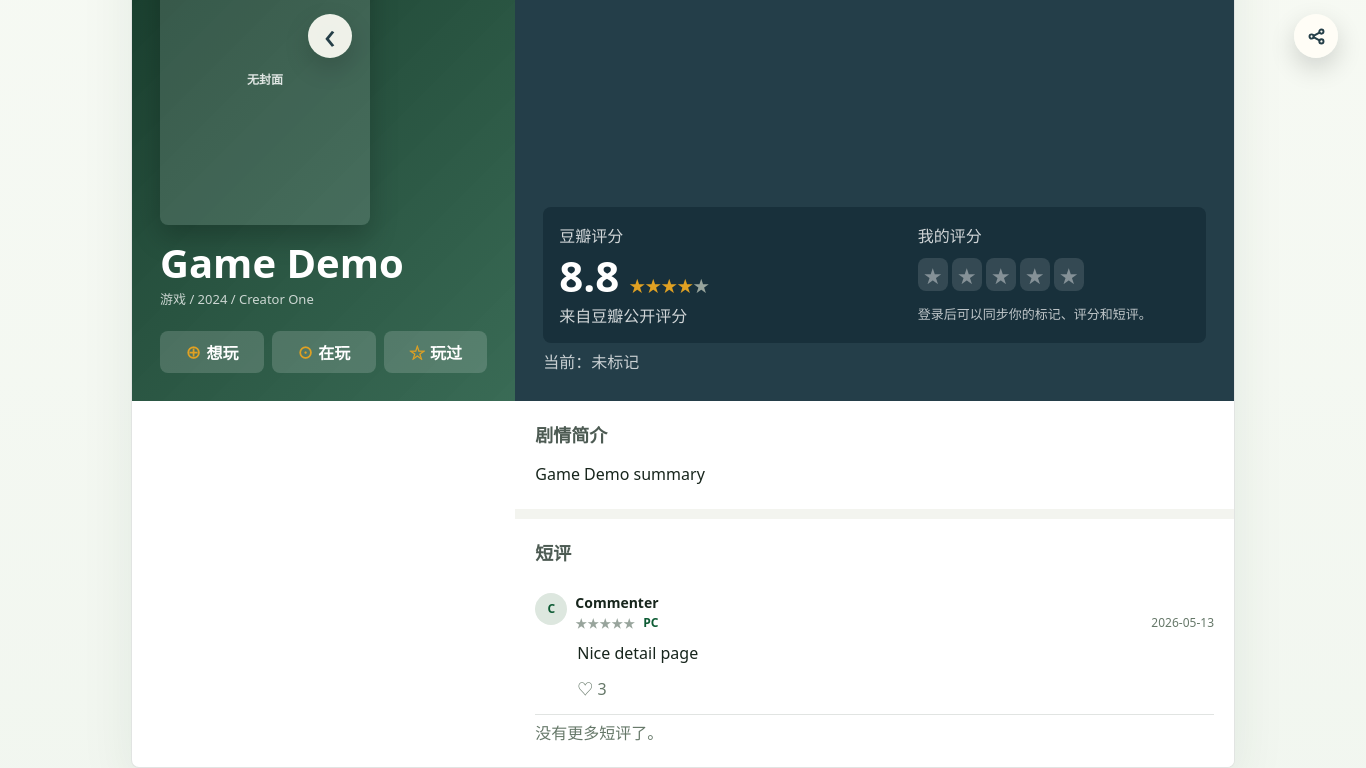
Test: SubjectDetailPage › toggles a comment vote and updates the visible count
The image size is (1366, 768).
(page scrolled)
Click the button with class "comment-card__votes--button" at (592, 688), box 577,676 -> 607,700
(page scrolled)
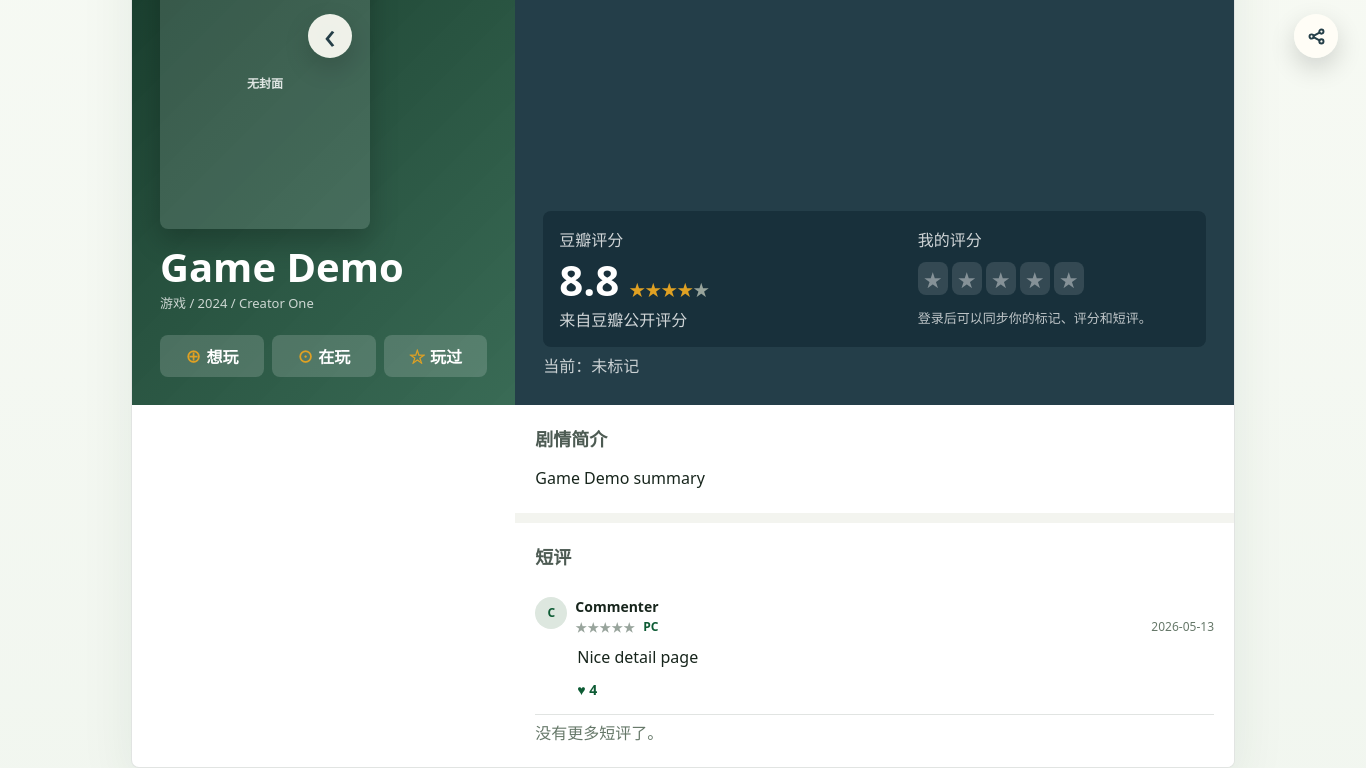
Check: the text "♥ 4" is shown, box 577,680 -> 597,699
Check: the text with class "comment-card__votes--active" shows "4", box 589,680 -> 597,699
